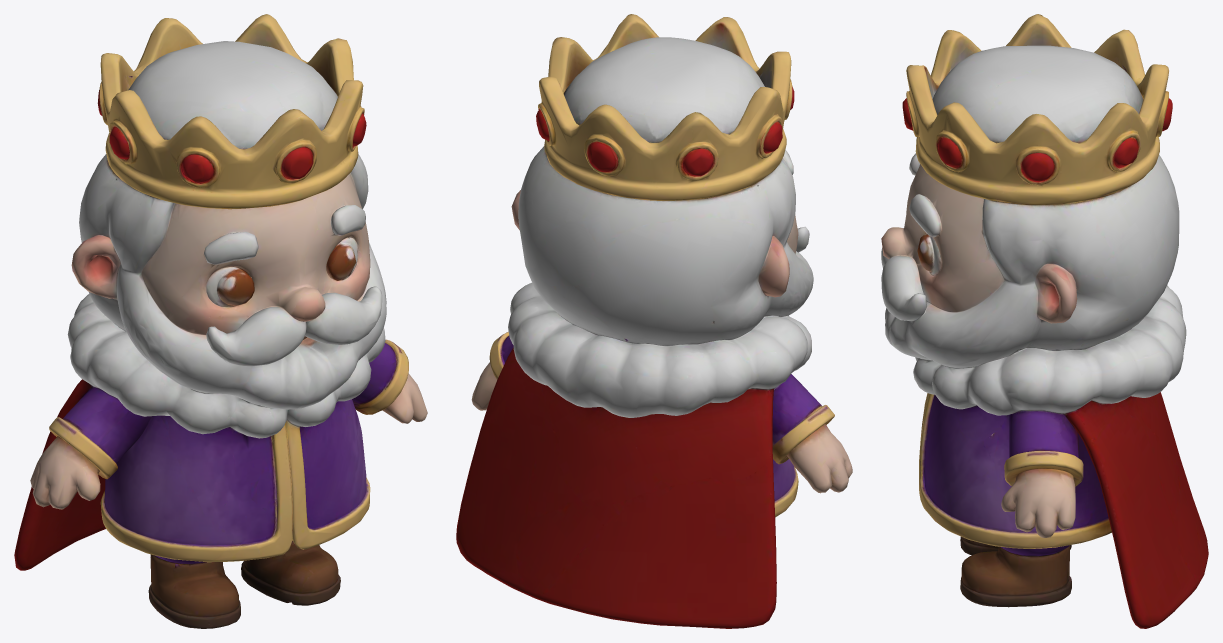
The model's file is npc_king.glb.
3 renders of one model, left to right at view 1: azimuth 30°, elevation 25°; view 2: azimuth 150°, elevation 25°; view 3: azimuth 270°, elevation 25°, orthographic. The views are drawn at different scales.
Visible parts, largest first — view 1: node_0; view 2: node_0; view 3: node_0.
Part boxes in pixels (bbox=[...]): node_0: bbox=[14, 14, 427, 628]; node_0: bbox=[456, 14, 852, 628]; node_0: bbox=[881, 14, 1208, 628].
Size of the model in its own units: 0.7799 by 1.01 by 0.5916.
Materials: 1 (1 with a texture image).
